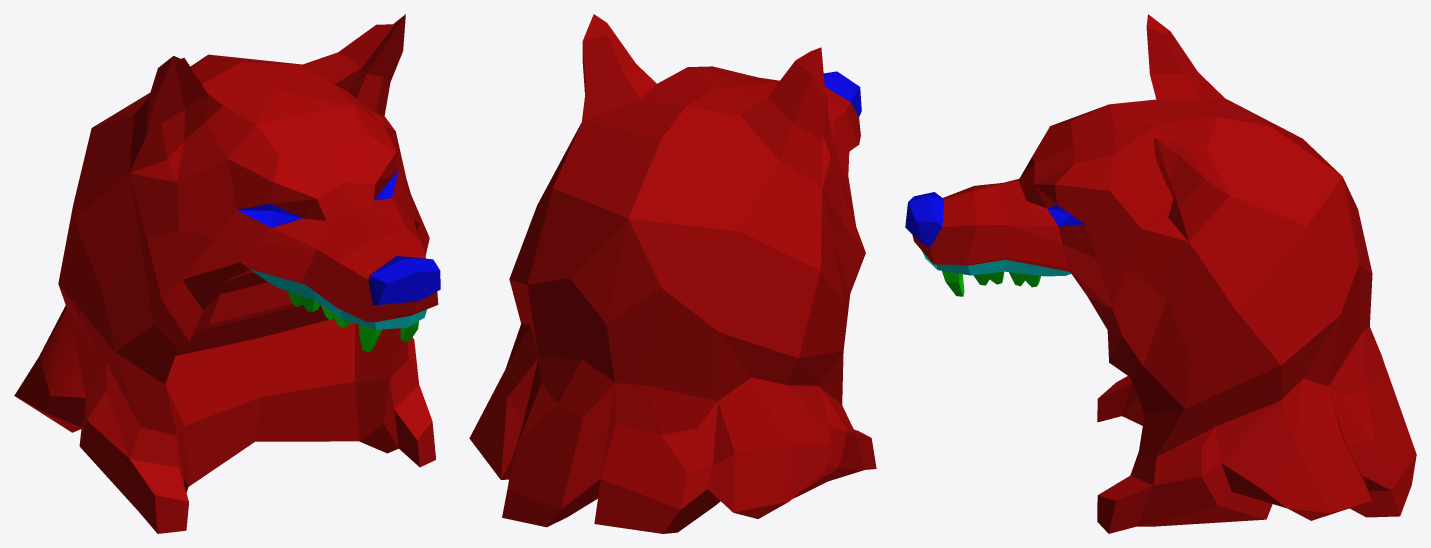
File: Chr_HeadCoverings_NoHair_Static_10.fbx
The picture shows the model from 3 angles, left to right: view 1: azimuth 30°, elevation 25°; view 2: azimuth 150°, elevation 25°; view 3: azimuth 270°, elevation 25°; orthographic projection. The views are drawn at different scales.
Parts seen in each view (by area): view 1: Chr_HeadCoverings_No_Hair_10; view 2: Chr_HeadCoverings_No_Hair_10; view 3: Chr_HeadCoverings_No_Hair_10.
Part boxes in pixels (bbox=[...]): Chr_HeadCoverings_No_Hair_10: bbox=[14, 14, 440, 533]; Chr_HeadCoverings_No_Hair_10: bbox=[469, 14, 876, 533]; Chr_HeadCoverings_No_Hair_10: bbox=[905, 14, 1416, 533].
Bounding box in the file's own units: 38.49 × 48.52 × 53.52.
